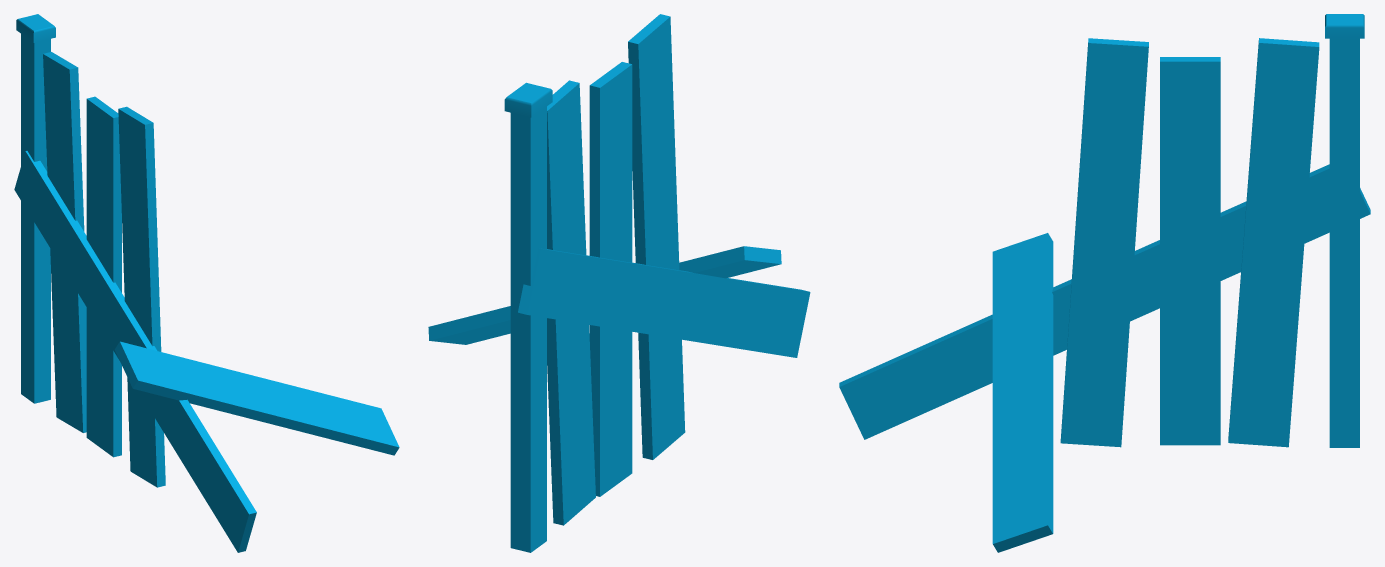
Rendered from Garden_Fence_01_Break_Lod0.fbx.
3 views of the same model, side by side, from view 1: azimuth 30°, elevation 25°; view 2: azimuth 150°, elevation 25°; view 3: azimuth 270°, elevation 25° (orthographic). The views are drawn at different scales.
Parts seen in each view (by area): view 1: Garden_Fence_01_Break_Lod0; view 2: Garden_Fence_01_Break_Lod0; view 3: Garden_Fence_01_Break_Lod0.
Part boxes in pixels (x1=…): Garden_Fence_01_Break_Lod0: x1=14, y1=14, x2=399, y2=552; Garden_Fence_01_Break_Lod0: x1=428, y1=14, x2=810, y2=552; Garden_Fence_01_Break_Lod0: x1=839, y1=14, x2=1370, y2=552.
Size of the model in its own units: 94.97 by 126 by 143.
